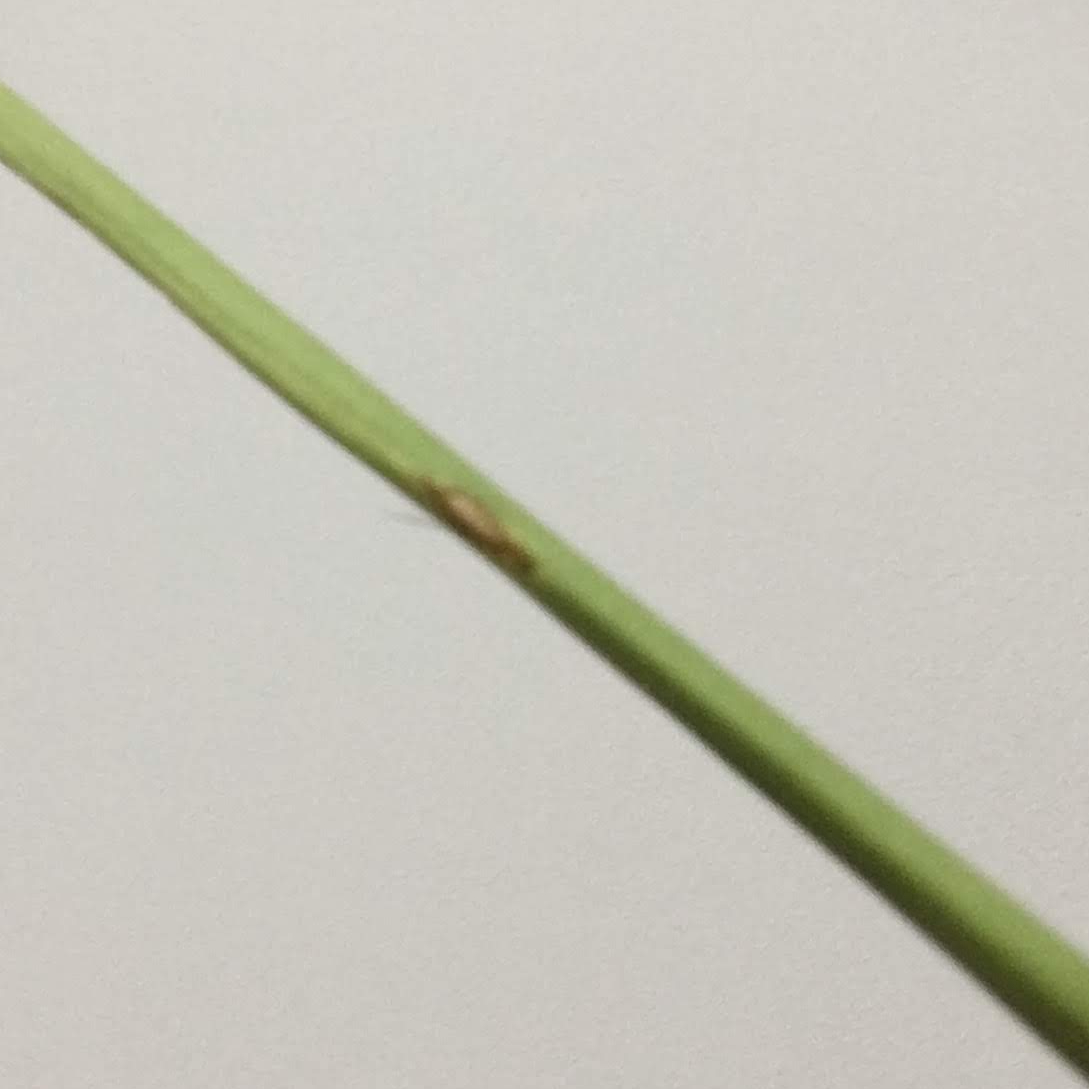leaf blast: (4, 75, 1089, 1047)
